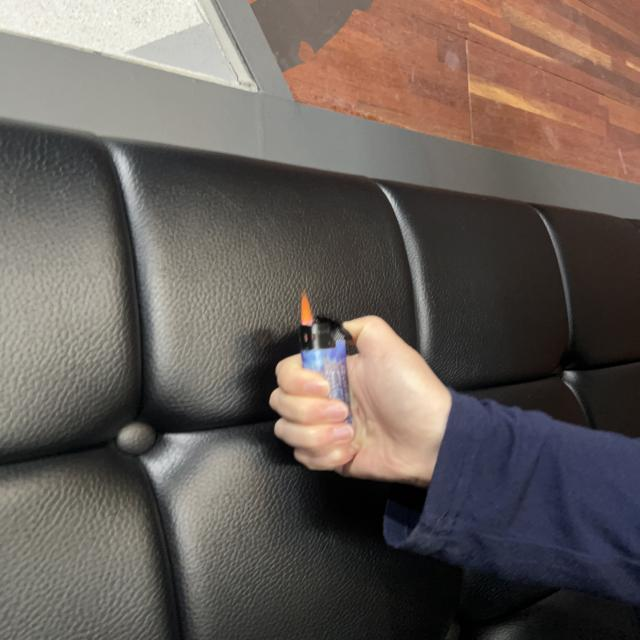fire: (300, 291, 316, 326)
